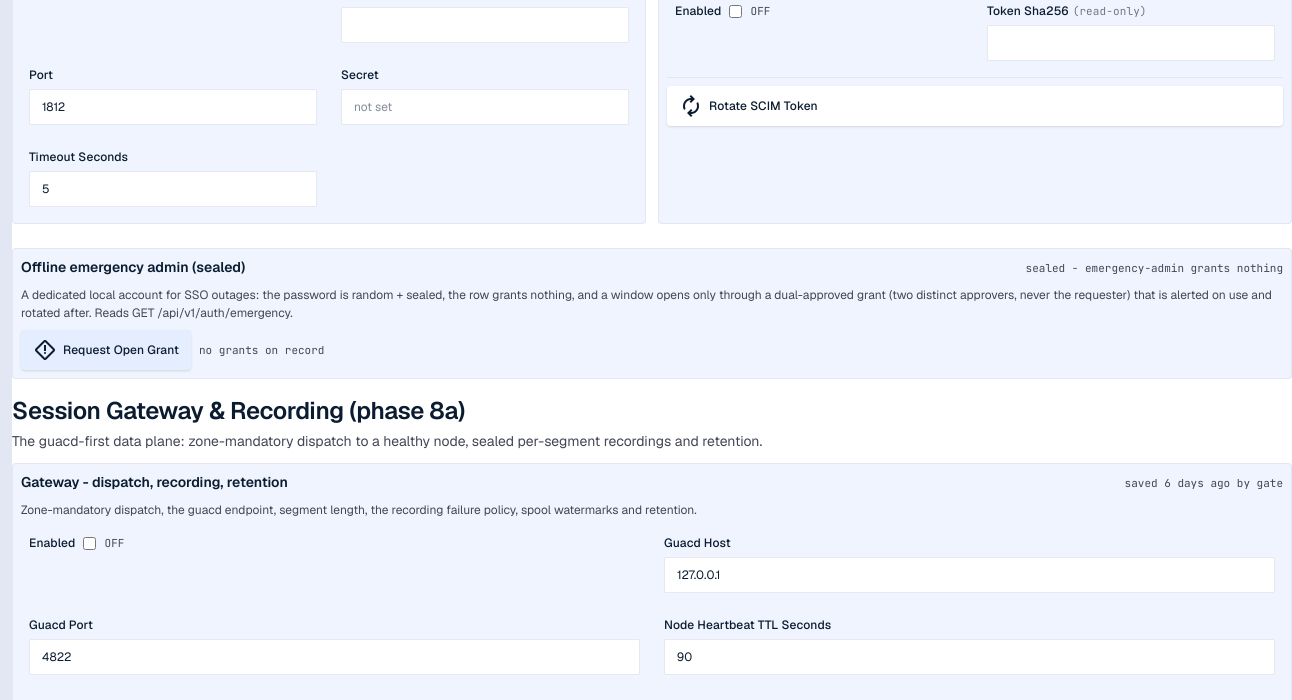
Test: sealed emergency card (screen 11, ADR-0015 11.4) › a dead backend on the attempt lands in the legacy catch line (Failed to fetch)
(page scrolled)
Expected: the text with test id "settings-emergency-state" reads "sealed - emergency-admin grants nothing", [1026,260,1283,274]
Click the button "Request Open Grant".
click(106, 350)  # box [21,330,191,370]
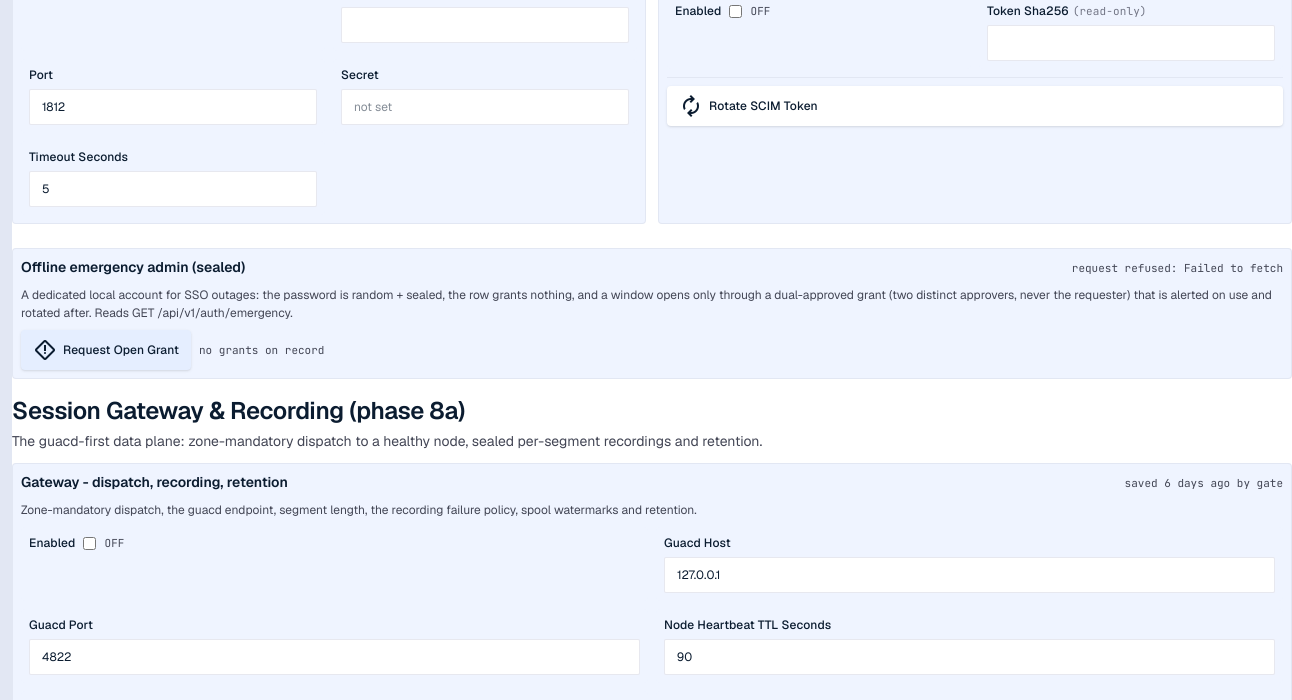
Result: the text with test id "settings-emergency-state" reads "request refused: Failed to fetch" at [1072,260,1283,274]
